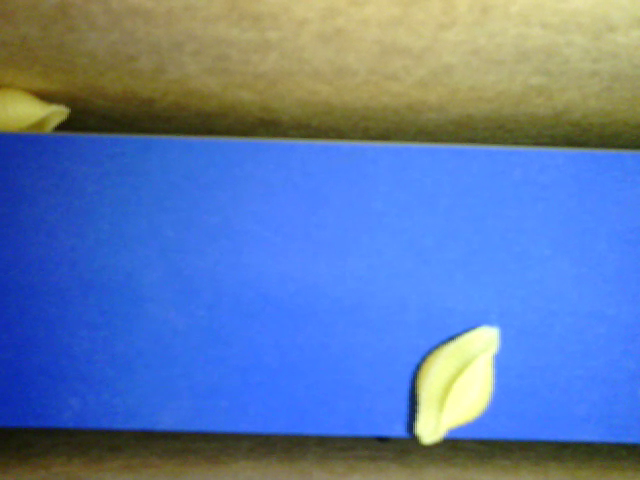shell: (414, 320, 499, 444), (1, 86, 73, 136)
